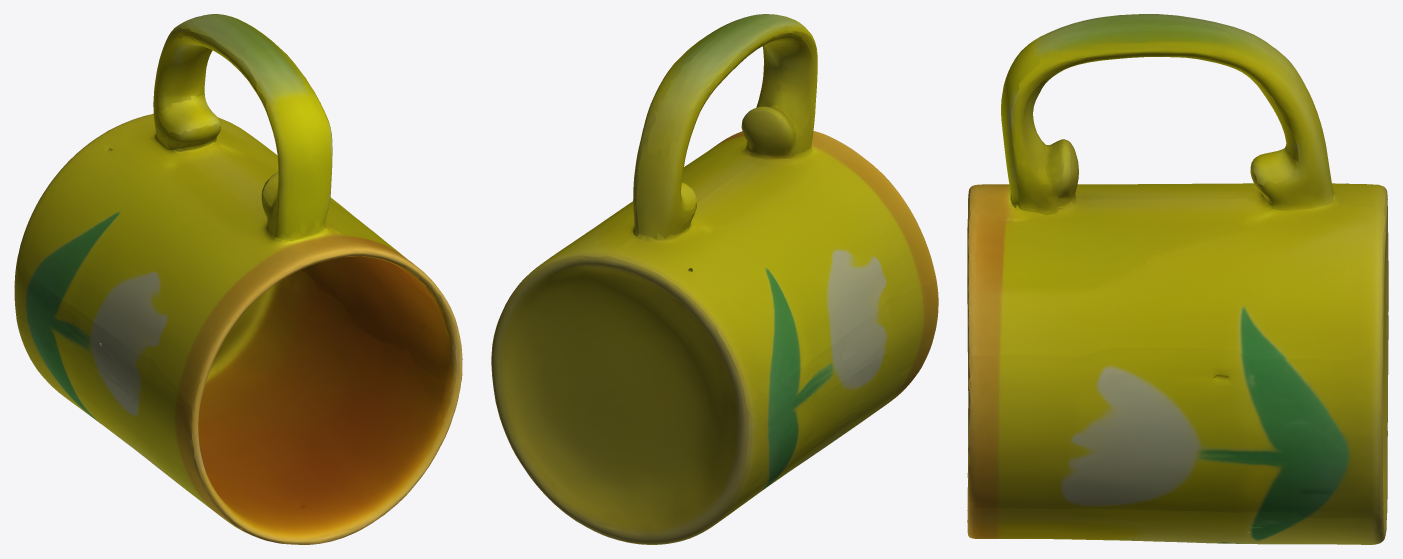
File: flowercup.obj
The picture shows the model from 3 angles, left to right: view 1: azimuth 30°, elevation 25°; view 2: azimuth 150°, elevation 25°; view 3: azimuth 270°, elevation 25°; orthographic projection. The views are drawn at different scales.
Size of the model in its own units: 0.0798 by 0.1227 by 0.0931.
1 material, 1 textured.
